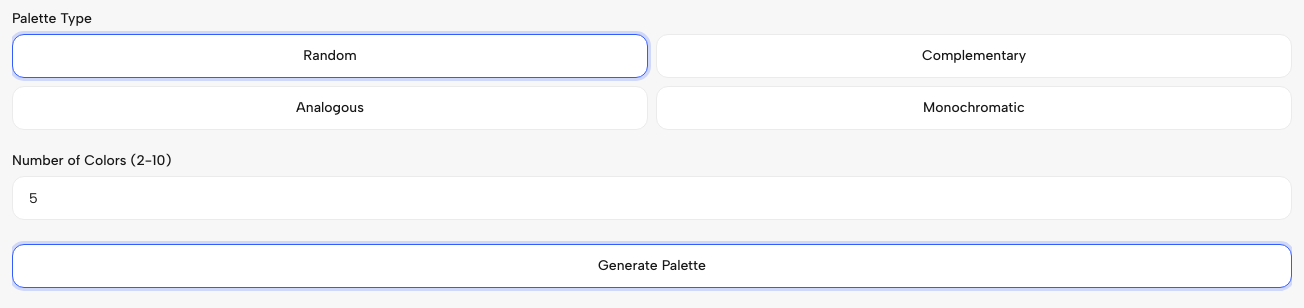
Test: ColorPaletteGeneratorTool › hides color count input in non-random modes
Step 1. Click the button "Complementary" → (974, 56), box [656,34,1292,78]
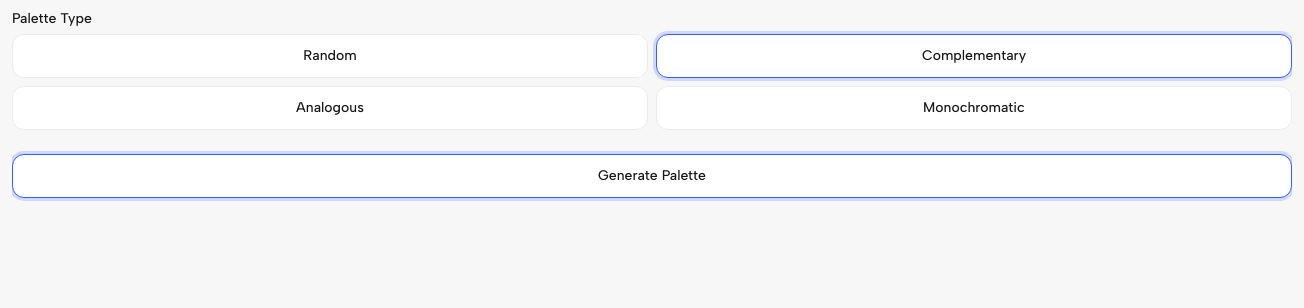
Now the text "Number of Colors (2-10)" is gone
